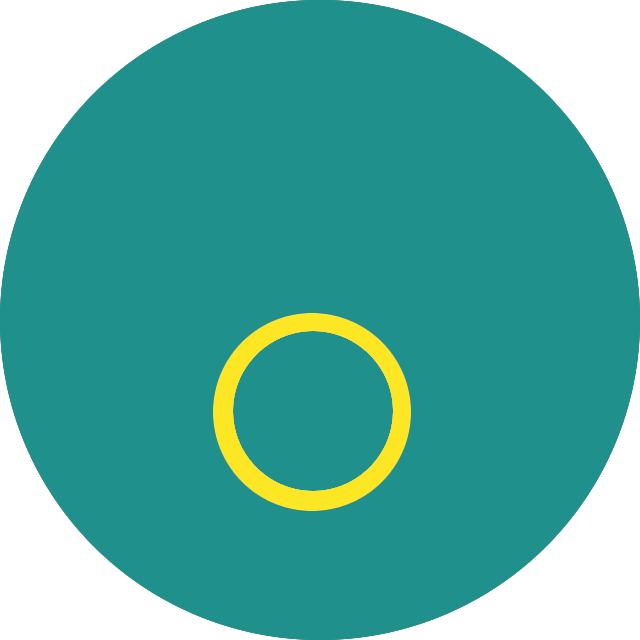donut: (1, 1, 640, 640)
